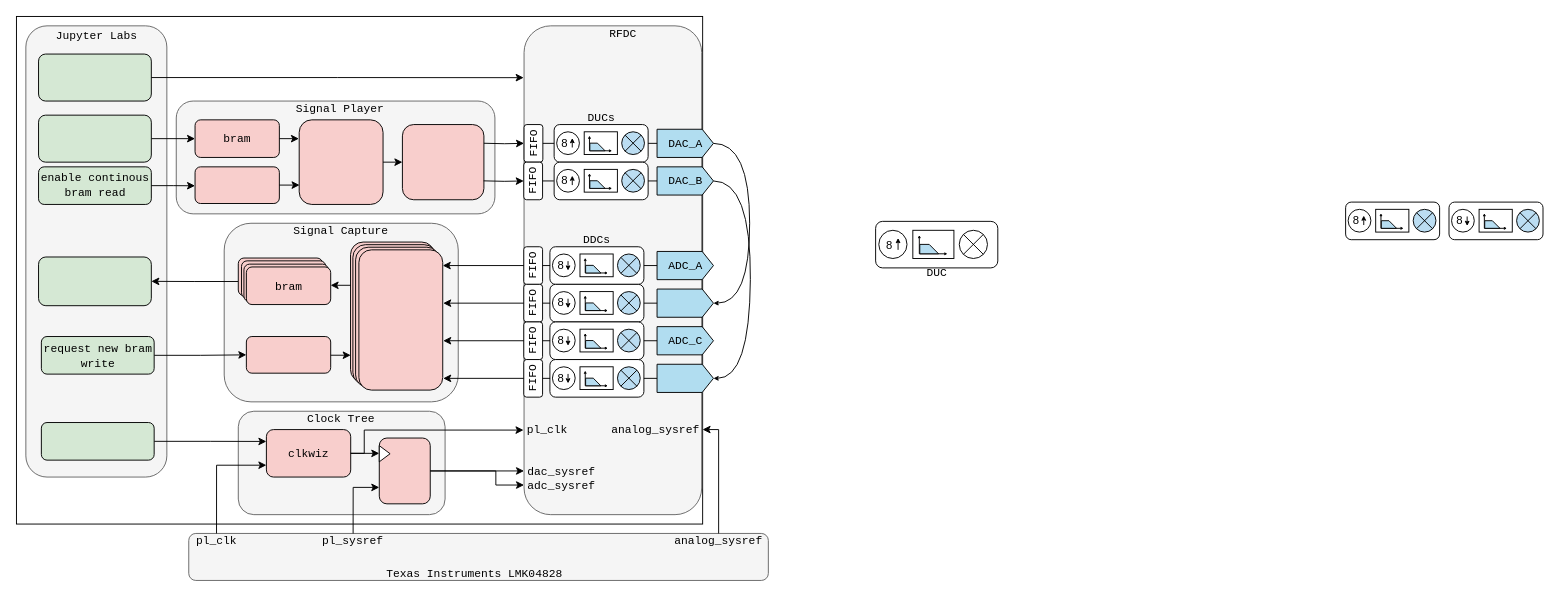
Some shapes in this 1559 by 597 pixel diagram are drawn without their labels. Here are the shapes that lost their labels. From the top down, the box of each, then its label:
(38, 53, 151, 101): RFDC & MTS ctrl
(38, 114, 151, 162): generate and load periodic signal
(298, 119, 383, 204): bram_player
(401, 124, 484, 200): broadcaster
(194, 166, 279, 204): gpio_enable
(38, 256, 151, 306): read bram and plot
(358, 249, 443, 390): bram_capture
(656, 288, 713, 317): ADC_B
(245, 336, 331, 373): gpio_trigger
(656, 363, 713, 392): ADC_D
(40, 422, 154, 460): reset clkwiz
(378, 437, 430, 504): FF
